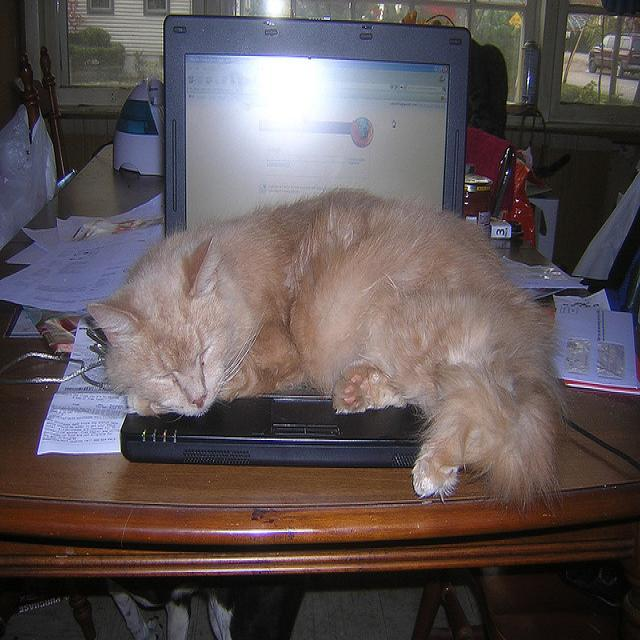Vehicle: (589, 34, 640, 78)
